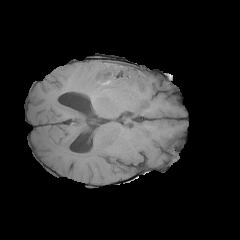glioma: (66, 61, 138, 97)
